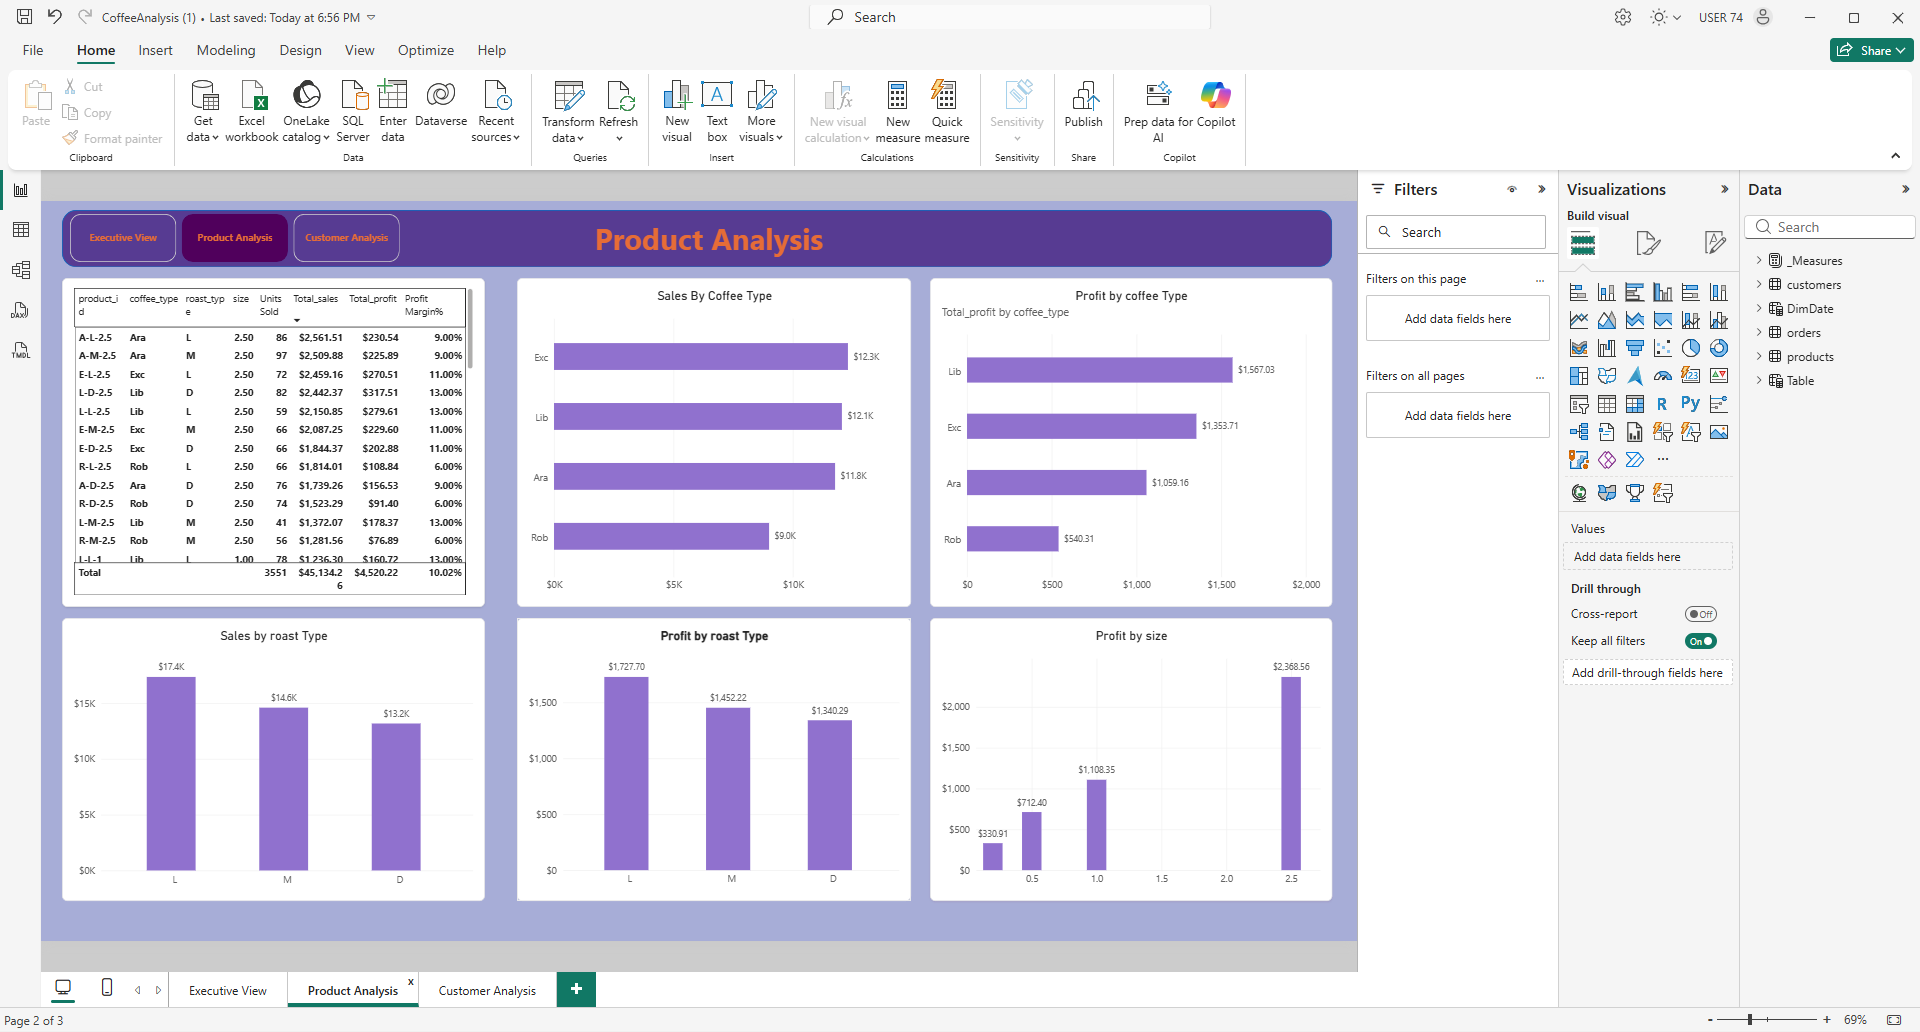

This screenshot's page, from the dashboard's own definition file:
{"tool":"powerbi","page":{"name":"Product Analysis","canvas":[1920,1080],"ordinal":1},"visuals":[{"type":"clusteredBarChart","title":"Sales By Coffee Type","fields":{"Category":["products.coffee_type"],"Y":["_Measures.Total_sales"]},"box":[694.5,112.3,574.8,480],"z":0},{"type":"clusteredBarChart","title":"Profit by coffee Type","fields":{"Category":["products.coffee_type"],"Y":["_Measures.Total_profit"]},"box":[1297,112.3,586.5,480],"z":1000},{"type":"clusteredColumnChart","title":"Sales by roast Type","fields":{"Category":["products.roast_type"],"Y":["_Measures.Total_sales"]},"box":[30,608.3,616.7,413.3],"z":2000},{"type":"clusteredColumnChart","title":"Profit by roast Type","fields":{"Category":["products.roast_type"],"Y":["_Measures.Total_profit"]},"box":[694.5,608.4,574.8,412.9],"z":3000},{"type":"clusteredColumnChart","title":"Profit by size","fields":{"Category":["products.size"],"Y":["_Measures.Total_profit"]},"box":[1297,608.4,586.5,412.9],"z":4000},{"type":"tableEx","fields":{"Values":["products.product_id","products.coffee_type","products.roast_type","products.size","_Measures.Units Sold","_Measures.Total_sales","_Measures.Total_profit","_Measures.Profit Margin%"]},"box":[30.6,112.3,617.1,480],"z":5000},{"type":"shape","box":[30,13.3,1853.3,83.3],"z":6000},{"type":"textbox","box":[365,25,1220,58.3],"z":7000},{"type":"pageNavigator","box":[42.3,19,481.5,70],"z":8000}]}

Visuals, with their boxes on the page's 1920x1080 design canvas (x1, y1, x2, y2). These are canvas units, not pixel positions in the 1920x1032 screenshot, which may show the page scaled, cropped or inside an application window:
"Sales By Coffee Type" clusteredBarChart: 694,112,1269,592
"Profit by coffee Type" clusteredBarChart: 1297,112,1884,592
"Sales by roast Type" clusteredColumnChart: 30,608,647,1022
"Profit by roast Type" clusteredColumnChart: 694,608,1269,1021
"Profit by size" clusteredColumnChart: 1297,608,1884,1021
tableEx - products.product_id x products.coffee_type: 31,112,648,592
shape: 30,13,1883,97
textbox: 365,25,1585,83
pageNavigator: 42,19,524,89
